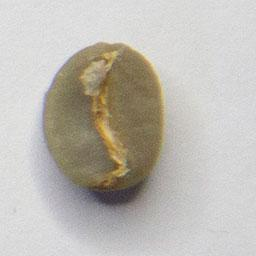premium: (37, 37, 169, 197)
